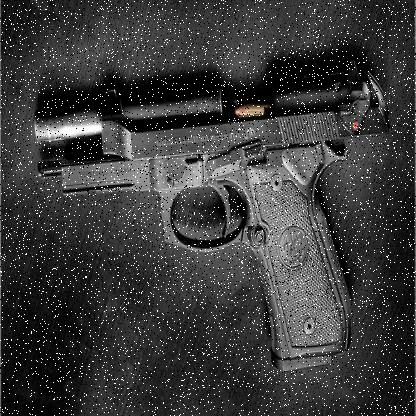pistol: (32, 72, 392, 381)
